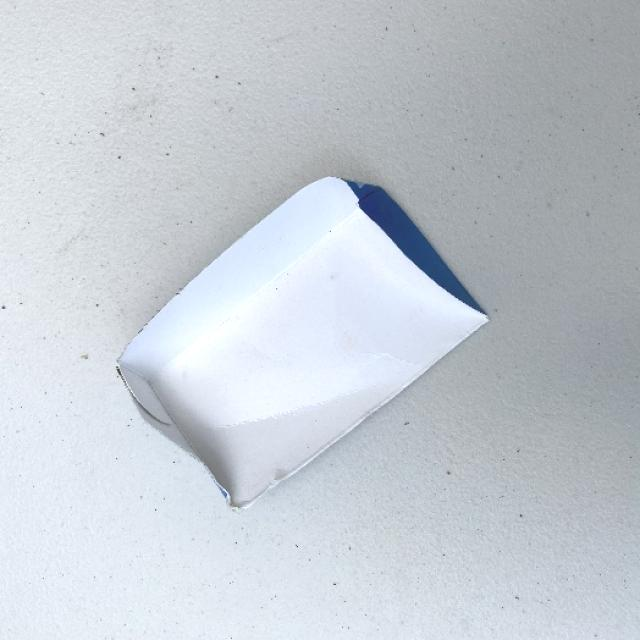kertas: (112, 168, 482, 512)
